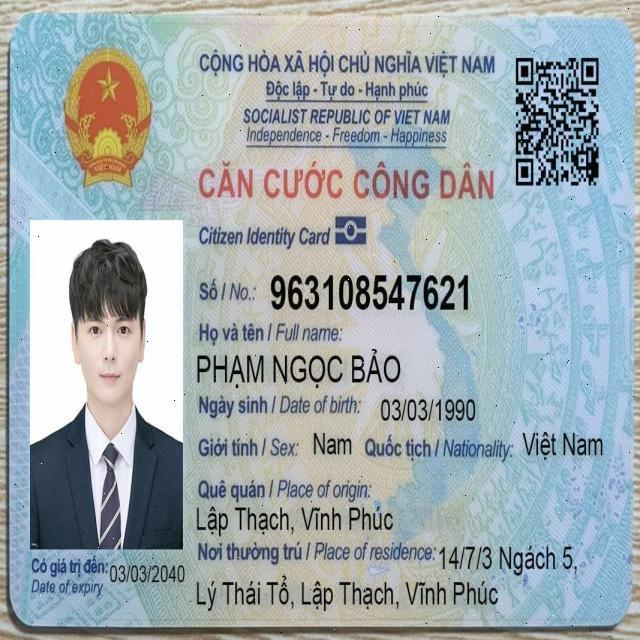current_place: (194, 572, 501, 615), (437, 542, 579, 579)
dob: (379, 394, 478, 426)
expire_date: (108, 560, 187, 587)
gender: (312, 429, 354, 460)
id: (268, 268, 471, 320)
name: (194, 344, 404, 391)
nationality: (521, 429, 606, 463)
origin_place: (194, 502, 395, 540)
